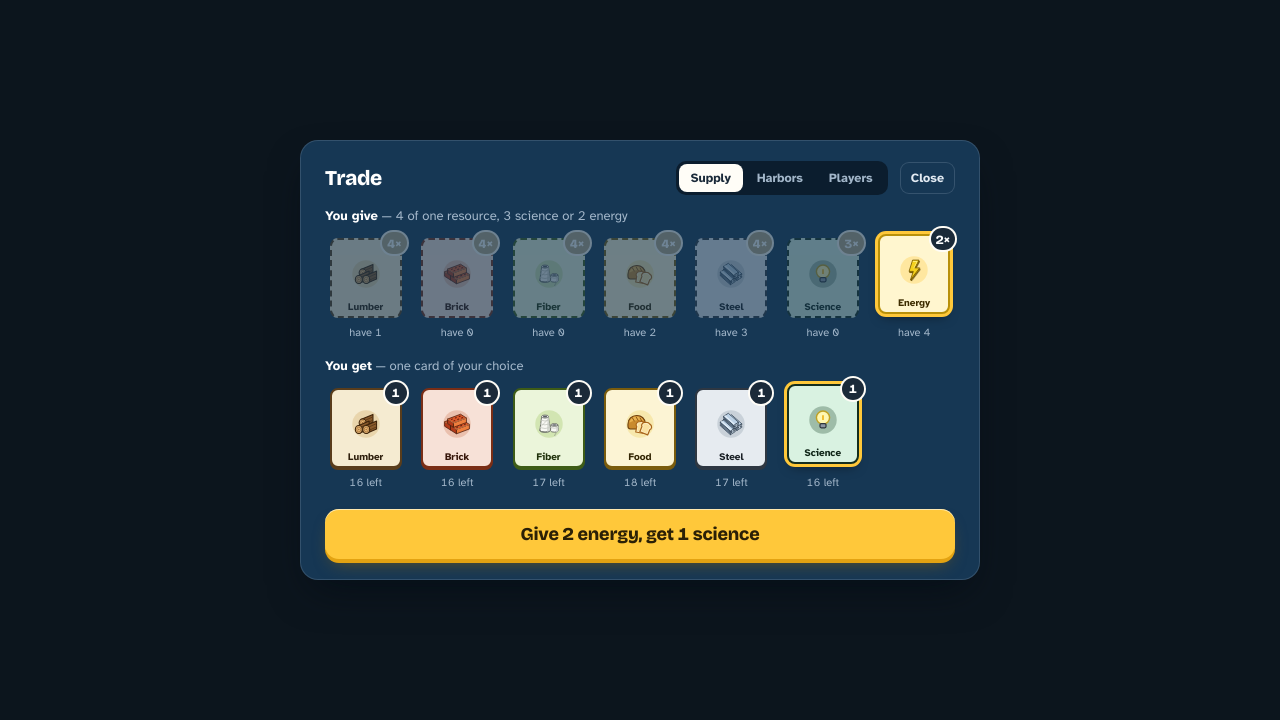
Trade dialog: Ask for cards › does not let you ask for more energy than you can hold
Click the tab "Players". click: (851, 178)
box: [817, 164, 885, 192]
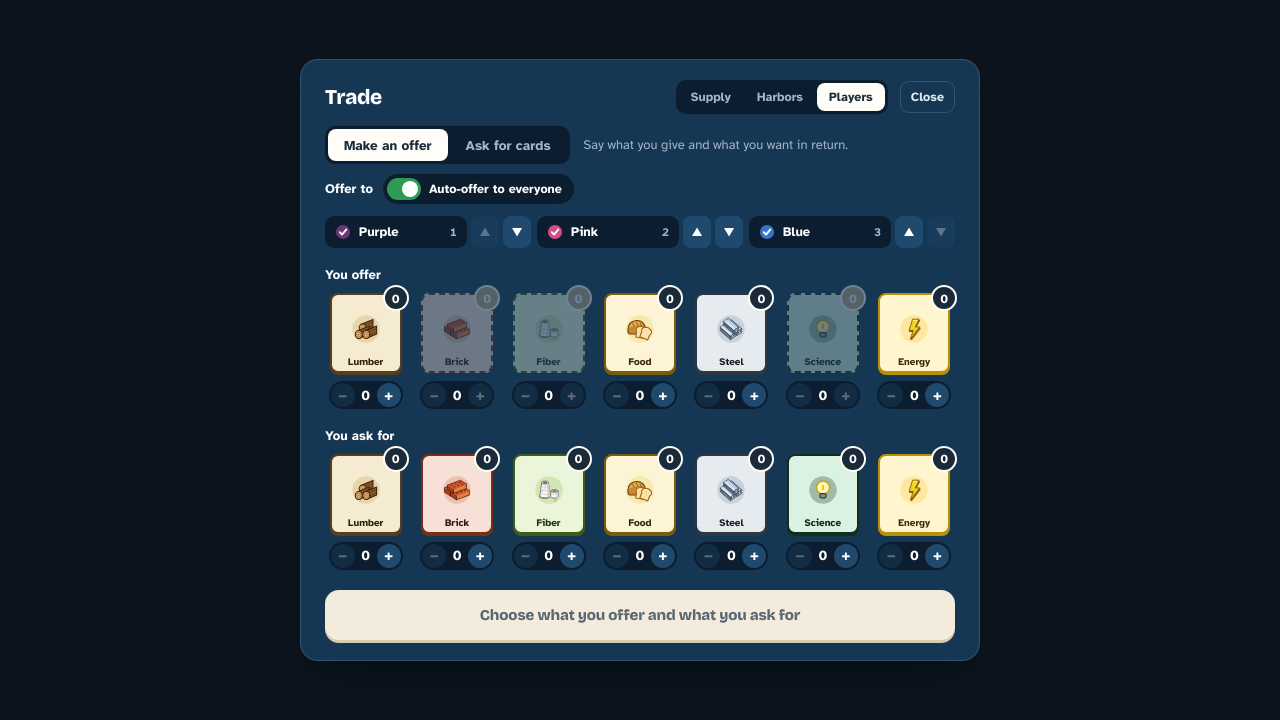
Click the tab "Ask for cards". click: (508, 145)
box: [450, 129, 567, 161]
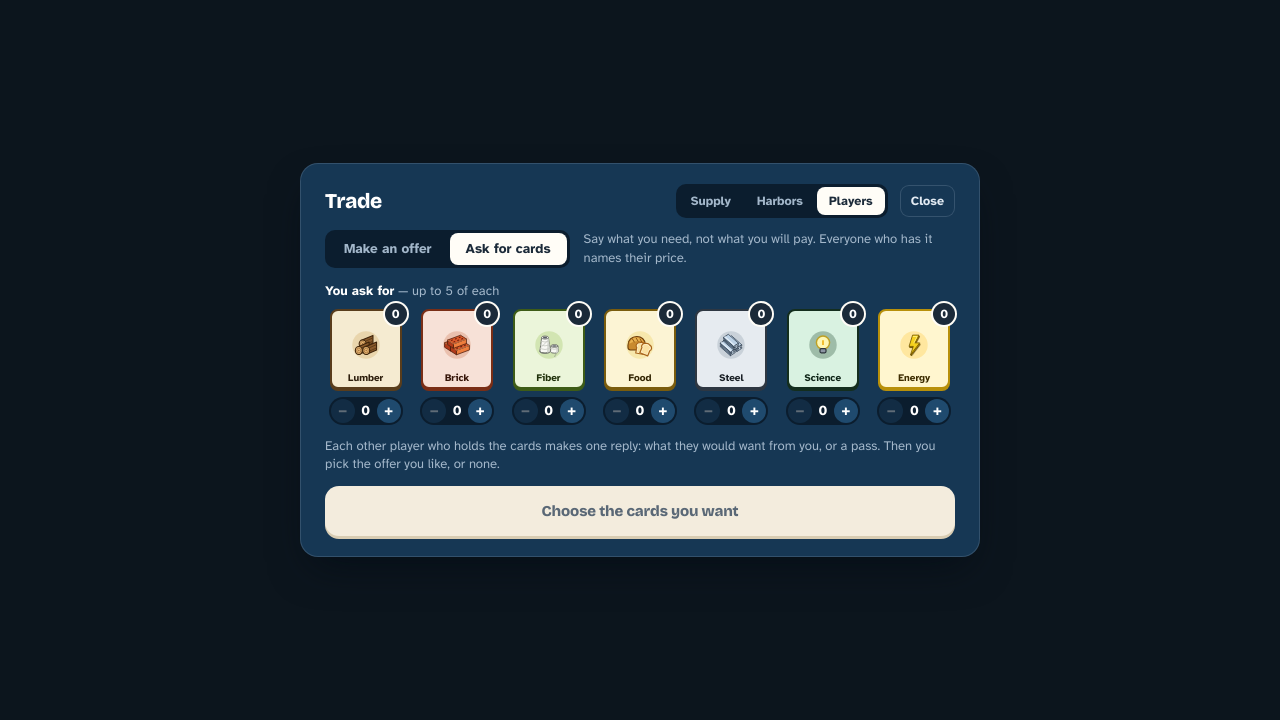
Click the button "Energy 0". click: (914, 349)
box: [878, 309, 950, 389]
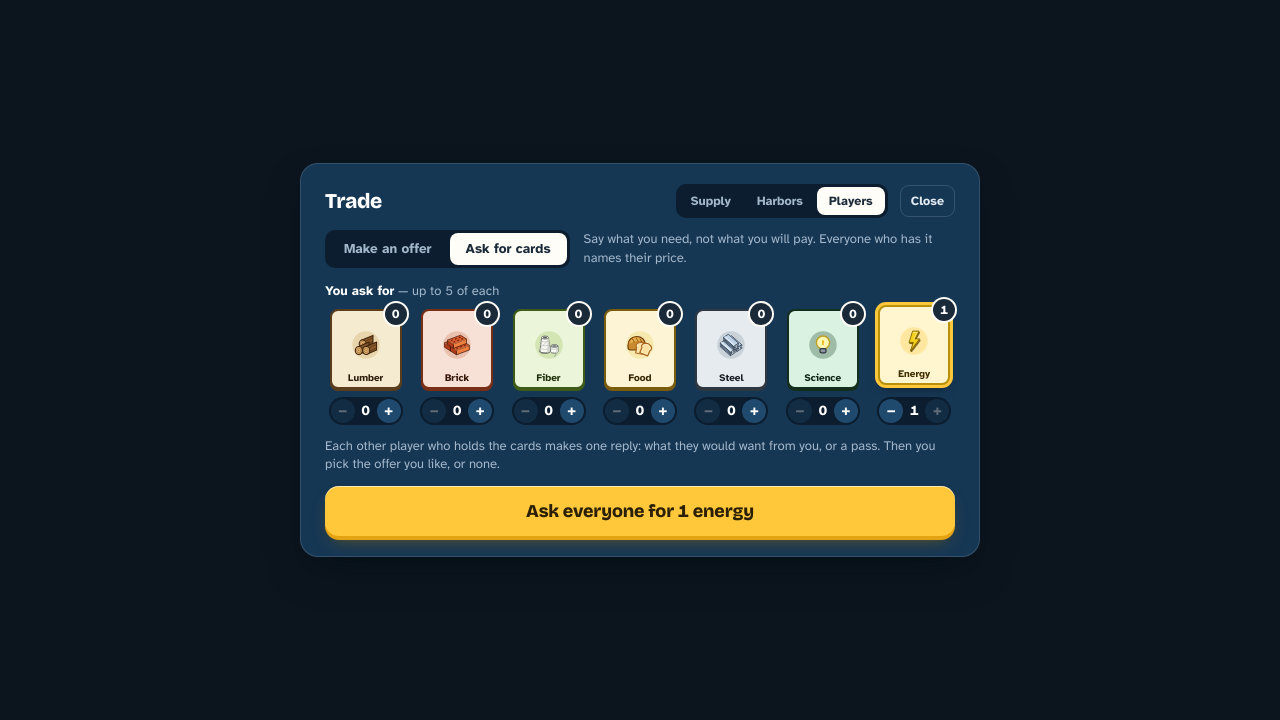
Now the button "Ask everyone for 1 energy" is shown, box [325, 486, 955, 536]
